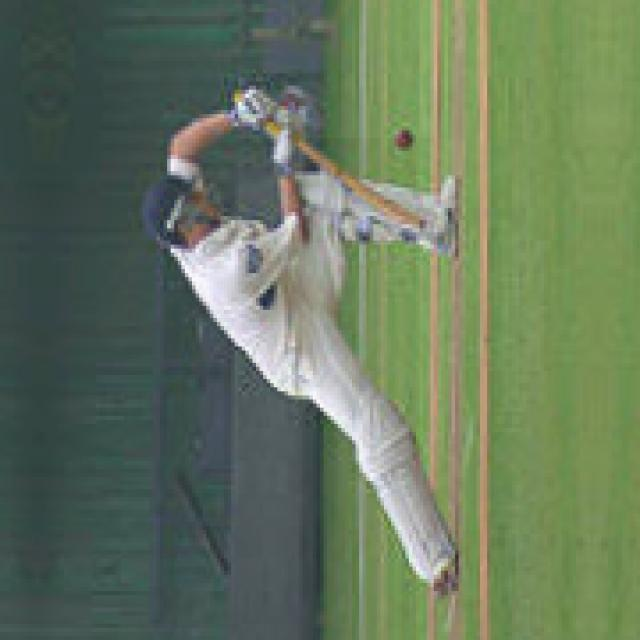bat: (279, 124, 439, 237)
